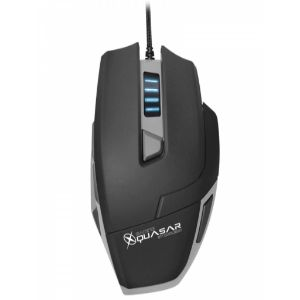mouse: (87, 36, 220, 291)
